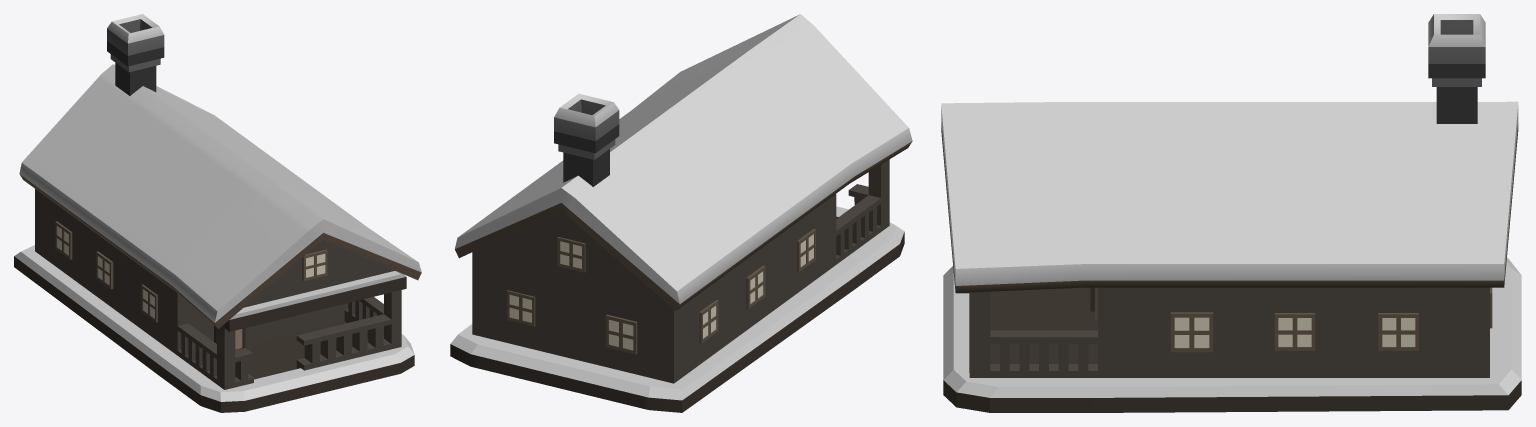
The model's file is FMP_New_House_3.fbx.
The picture shows the model from 3 angles, left to right: view 1: azimuth 30°, elevation 25°; view 2: azimuth 150°, elevation 25°; view 3: azimuth 270°, elevation 25°; orthographic projection. The views are drawn at different scales.
Parts seen in each view (by area): view 1: polySurface91; view 2: polySurface91; view 3: polySurface91.
Boxes of the visible parts, x1,y1,x2,y2 form: polySurface91: [14, 14, 421, 412]; polySurface91: [450, 14, 912, 412]; polySurface91: [941, 14, 1521, 412].
Bounding box in the file's own units: 691 × 728 × 1204.
